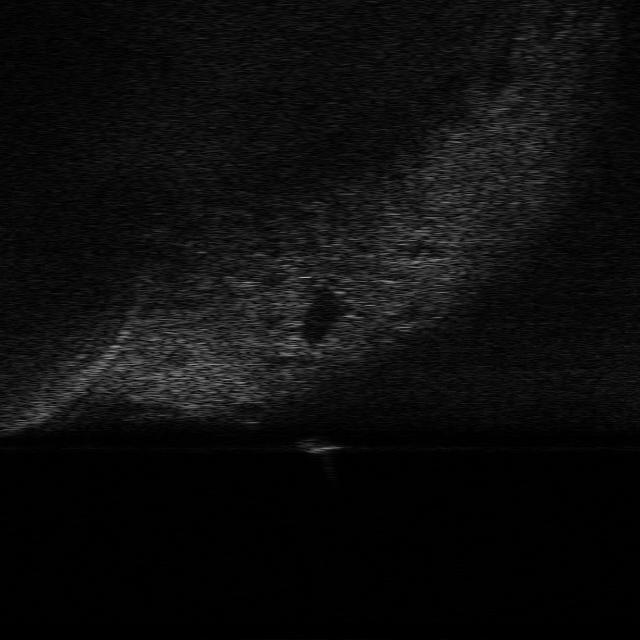cube: (295, 435, 345, 456)
